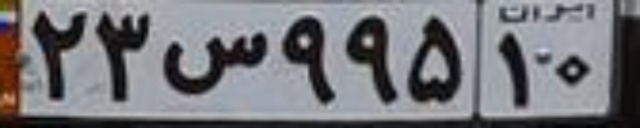0: (549, 54, 593, 85)
1: (496, 31, 529, 106)
2: (33, 7, 86, 101)
3: (95, 10, 153, 101)
5: (406, 16, 464, 101)
9: (282, 15, 336, 102), (343, 15, 397, 102)
sin: (162, 31, 268, 96)
